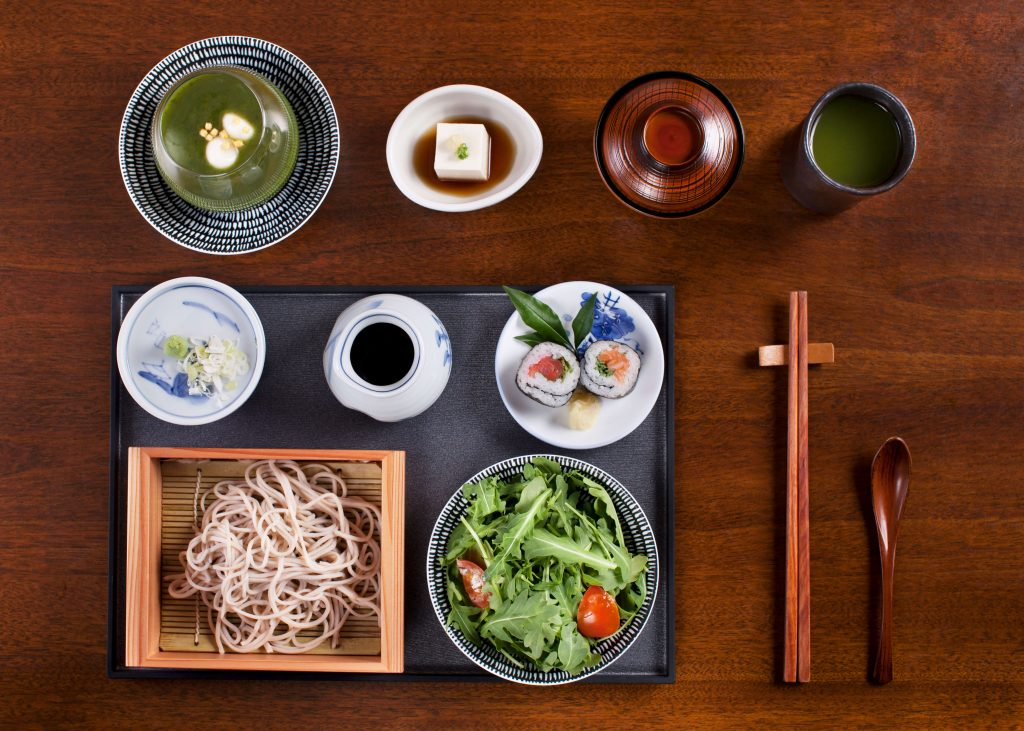Soba: (168, 444, 393, 661)
